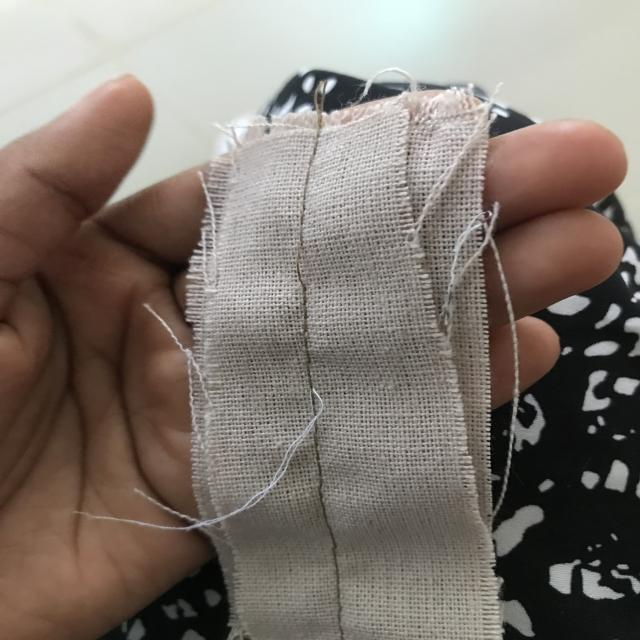skip: (274, 234, 332, 302)
